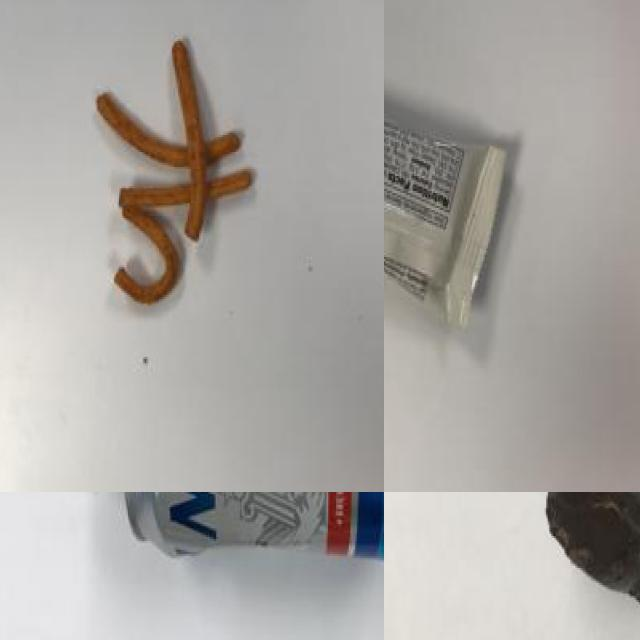compost: (72, 13, 262, 341), (519, 492, 640, 638)
plastic: (120, 492, 384, 591)
trash: (384, 17, 535, 335)
